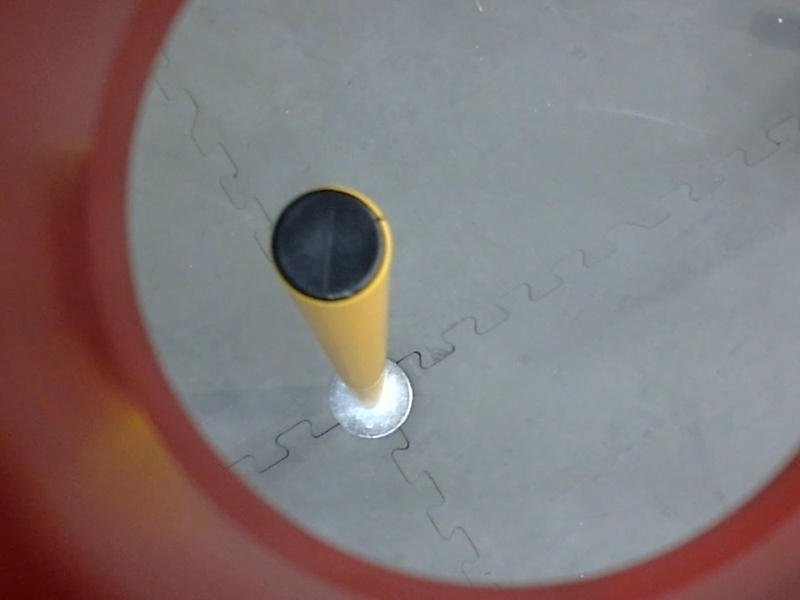tip: (262, 176, 399, 312)
